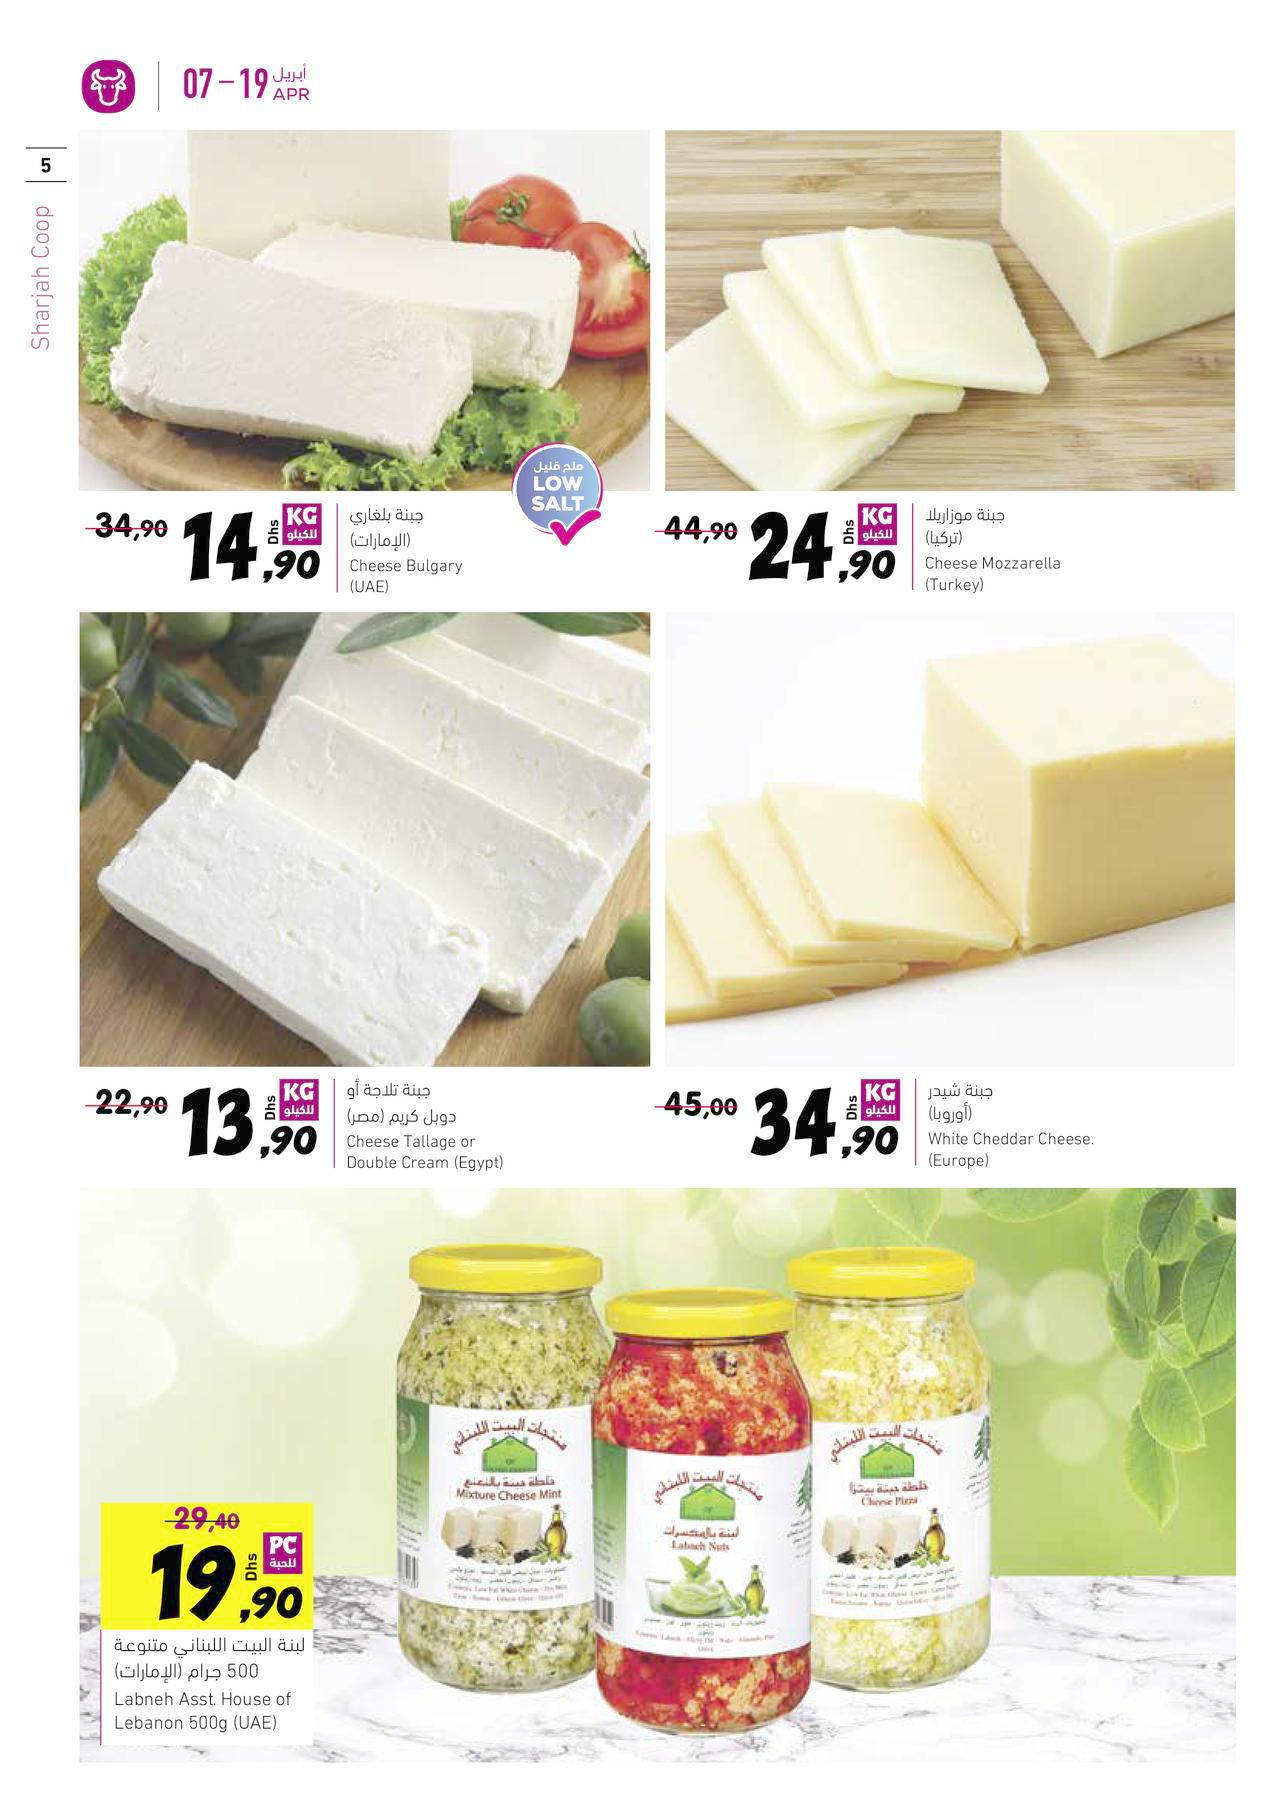text: (105, 1631, 309, 1739), (342, 1069, 510, 1178), (923, 1077, 1101, 1179), (918, 501, 1075, 602), (343, 503, 473, 600)
